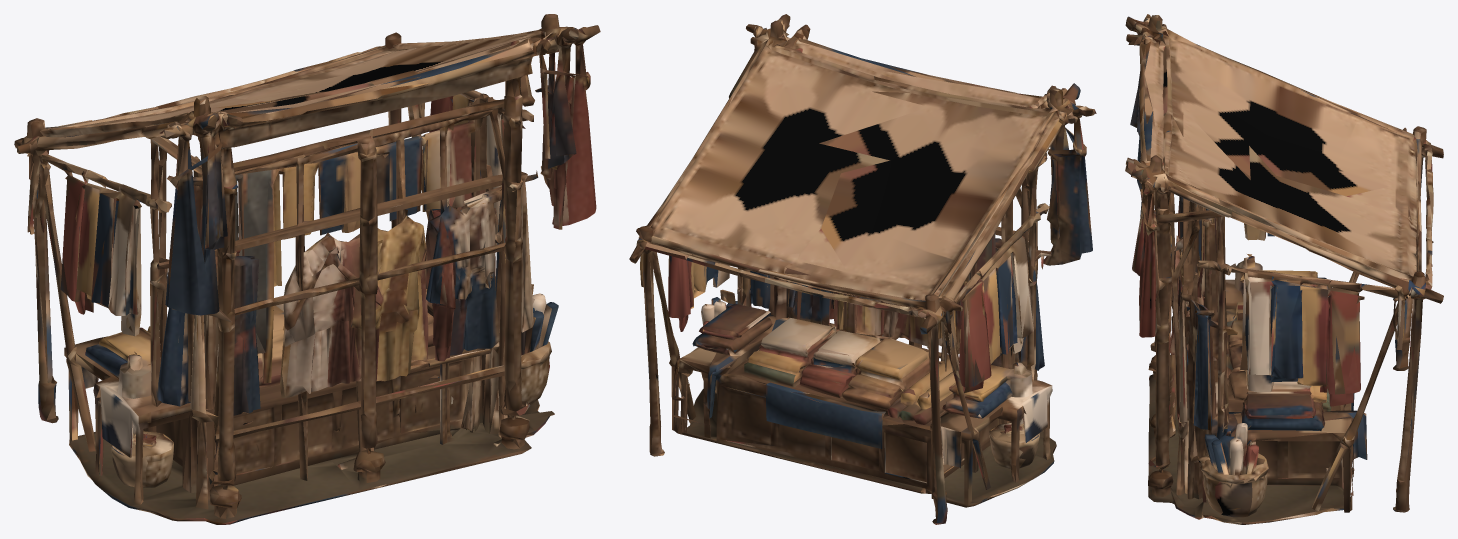
Rendered from 08_Cloth_Garment_Stall_LOD1.fbx.
3 views of the same model, side by side, from view 1: azimuth 30°, elevation 25°; view 2: azimuth 150°, elevation 25°; view 3: azimuth 270°, elevation 25° (orthographic). The views are drawn at different scales.
Parts seen in each view (by area): view 1: 08_Cloth_Garment_Stall_L1; view 2: 08_Cloth_Garment_Stall_L1; view 3: 08_Cloth_Garment_Stall_L1.
Boxes of the visible parts, bbox=[...] form: 08_Cloth_Garment_Stall_L1: bbox=[14, 14, 600, 524]; 08_Cloth_Garment_Stall_L1: bbox=[629, 14, 1096, 524]; 08_Cloth_Garment_Stall_L1: bbox=[1125, 14, 1443, 524].
Bounding box in the file's own units: 2.78 × 2.6 × 2.12.
